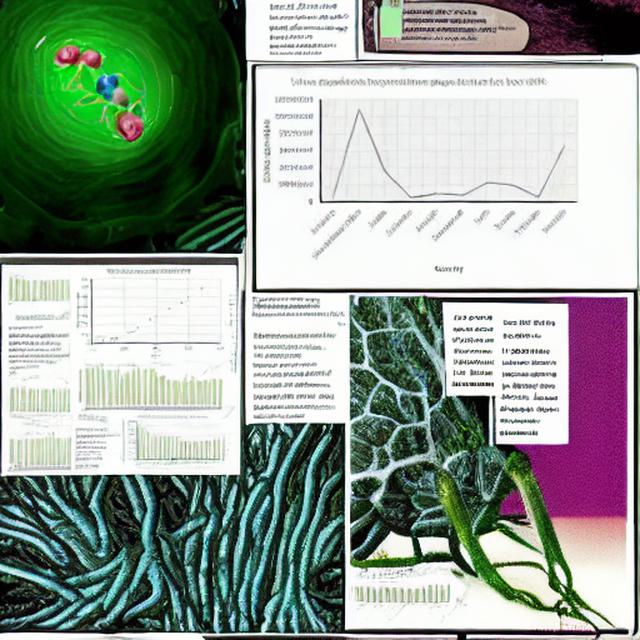Graph: (257, 68, 583, 281), (70, 267, 227, 359), (121, 413, 223, 471), (348, 575, 427, 621)
